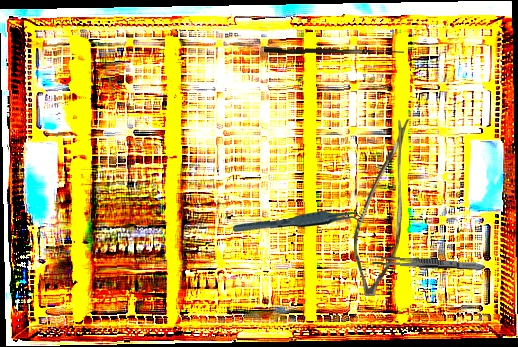Dressing Forceps: (371, 255, 486, 272)
Hook Surgical: (263, 44, 405, 56)
Micro Scissor: (354, 118, 409, 296)
Tissue Forceps: (232, 208, 365, 236)
